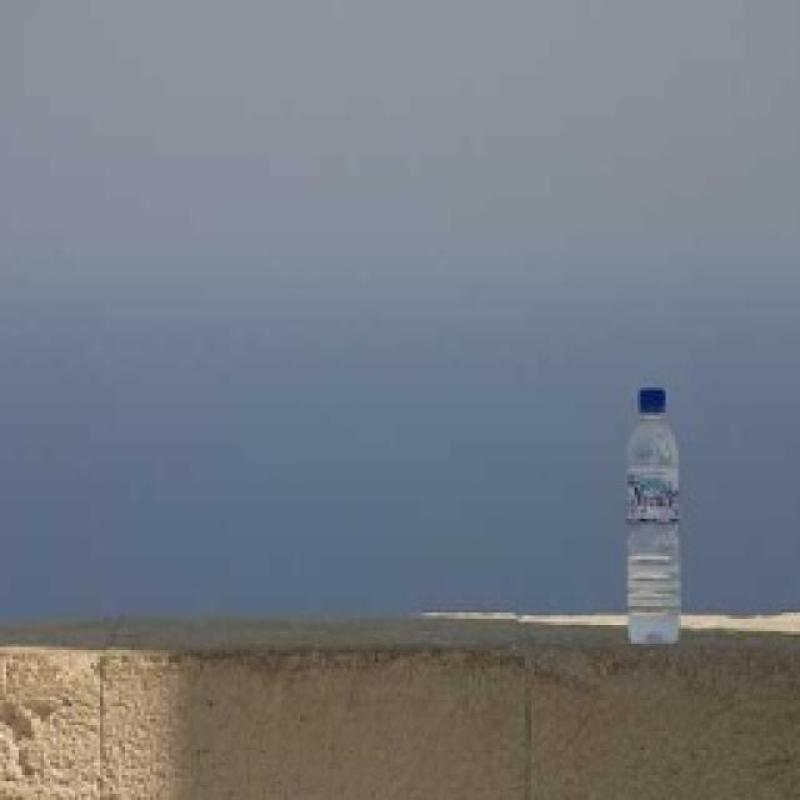botella: (628, 386, 688, 649)
